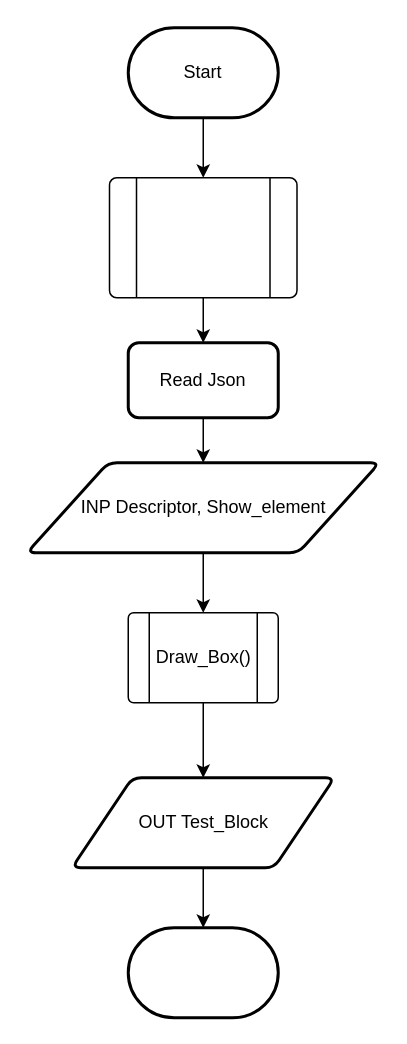
Some shapes in this 407 by 1044 pixel diagram are drawn without their labels. The box of each missing label's shape, as (x1, y1, x2, y2) in pixels:
END: (126, 926, 279, 1018)
Open_window(): (108, 176, 297, 298)
